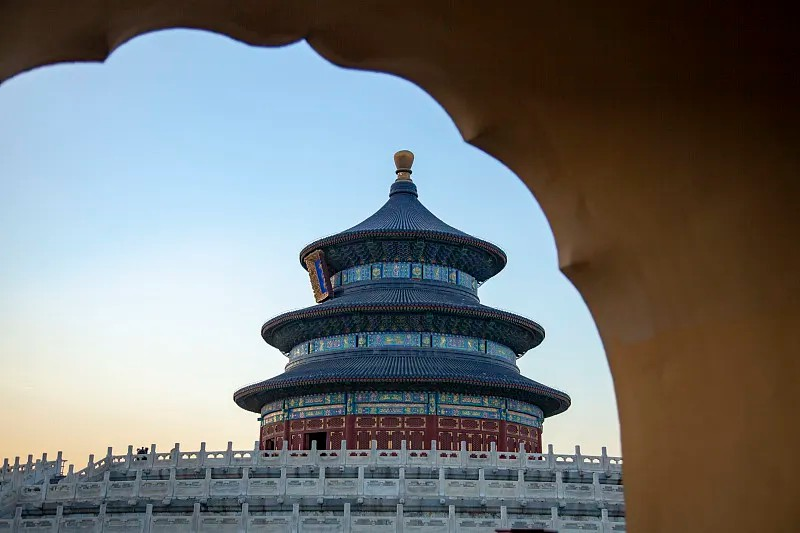Heaven: (233, 150, 572, 455)
